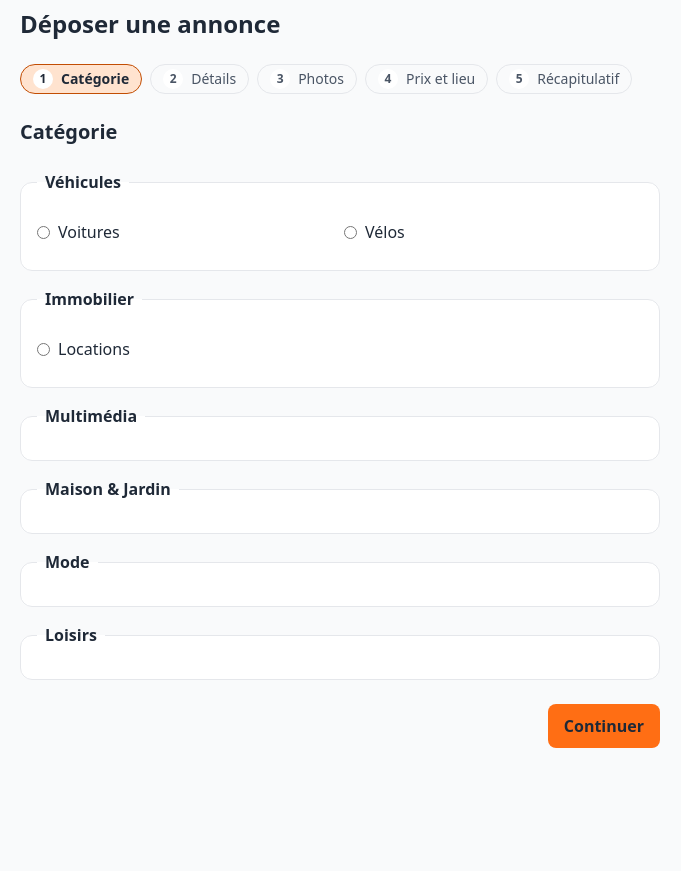
déposer une annonce : validation étape par étape › place le focus sur le premier champ invalide (clavier et lecteurs d'écran)
The image size is (681, 871).
Step 1. Click the radio button labelled "Voitures" → x=44, y=232, box [37, 226, 50, 238]
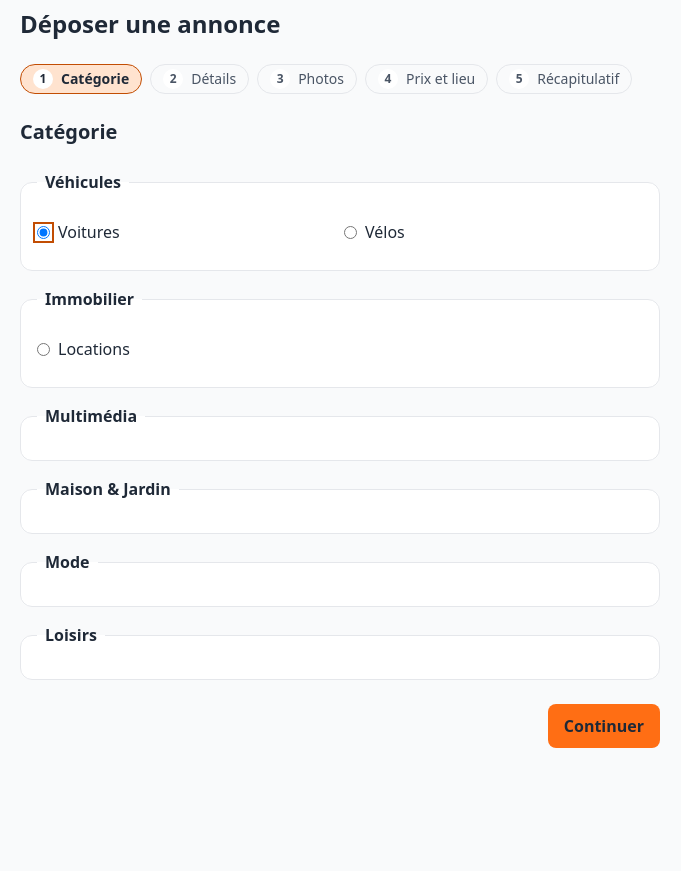
Step 2. Click the button "Continuer" → x=604, y=726, box [548, 704, 660, 748]
(page scrolled)
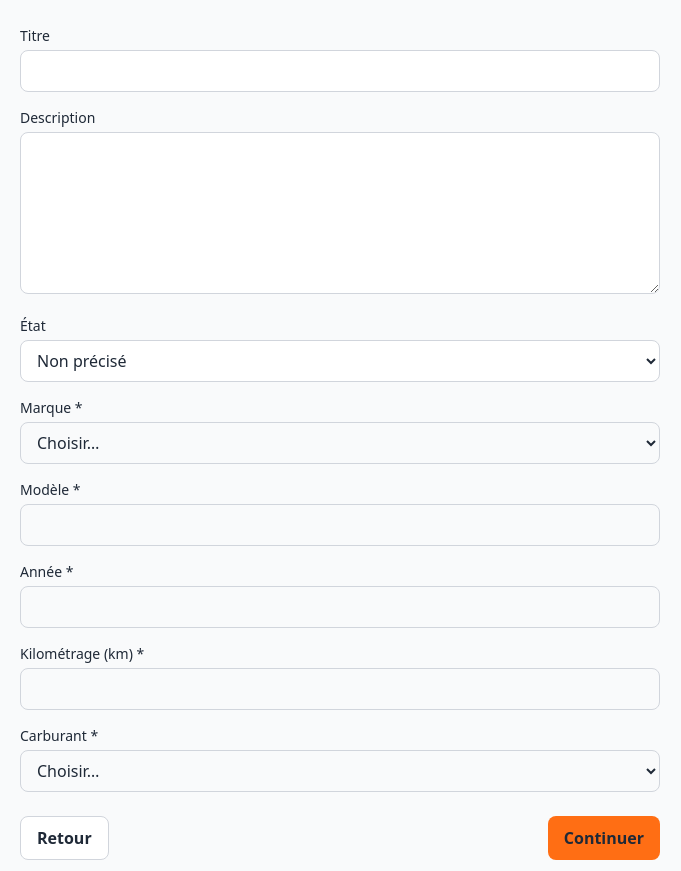
expect the dropdown labelled "Marque *" is shown: met, box [20, 422, 660, 464]
Step 3. Click the button "Continuer" → x=604, y=838, box [548, 816, 660, 860]
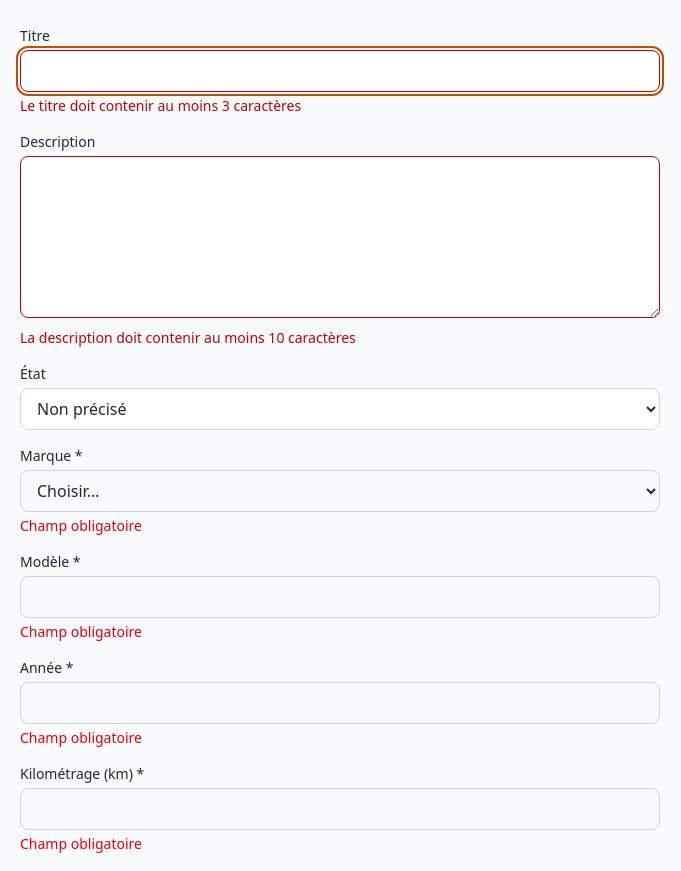
expect the text "Le titre doit contenir au moins 3 caractères" is shown: met, box [20, 96, 301, 115]
